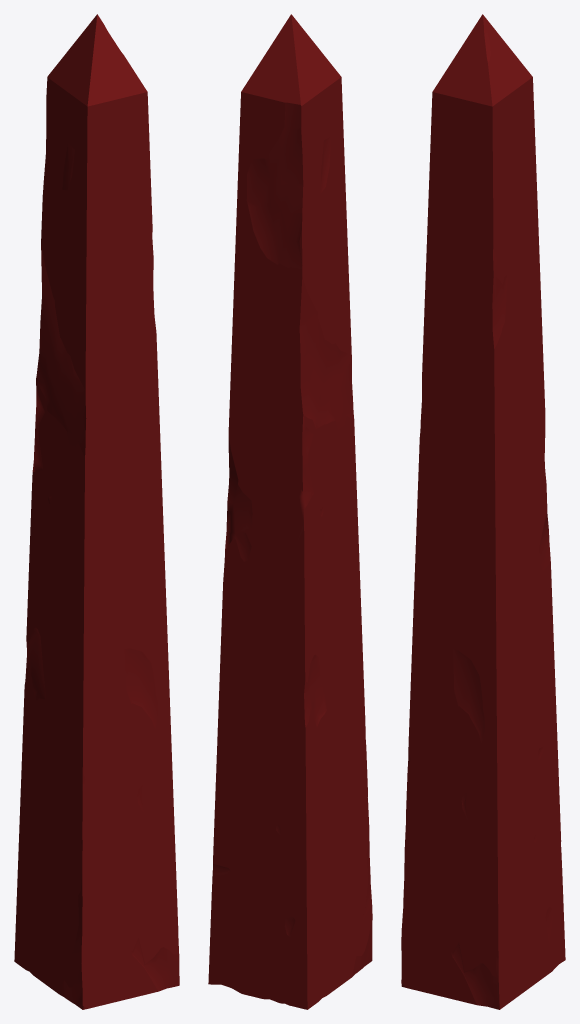
Rendered from firetower.FBX.
3 renders of one model, left to right at view 1: azimuth 30°, elevation 25°; view 2: azimuth 150°, elevation 25°; view 3: azimuth 330°, elevation 25°, orthographic.
Visible parts, largest first — view 1: Box001; view 2: Box001; view 3: Box001.
Boxes of the visible parts, x1,y1,x2,y2 form: Box001: (14,14,179,1009); Box001: (208,14,372,1009); Box001: (401,14,565,1009).
Bounding box in the file's own units: 27.66 × 256 × 32.23.
